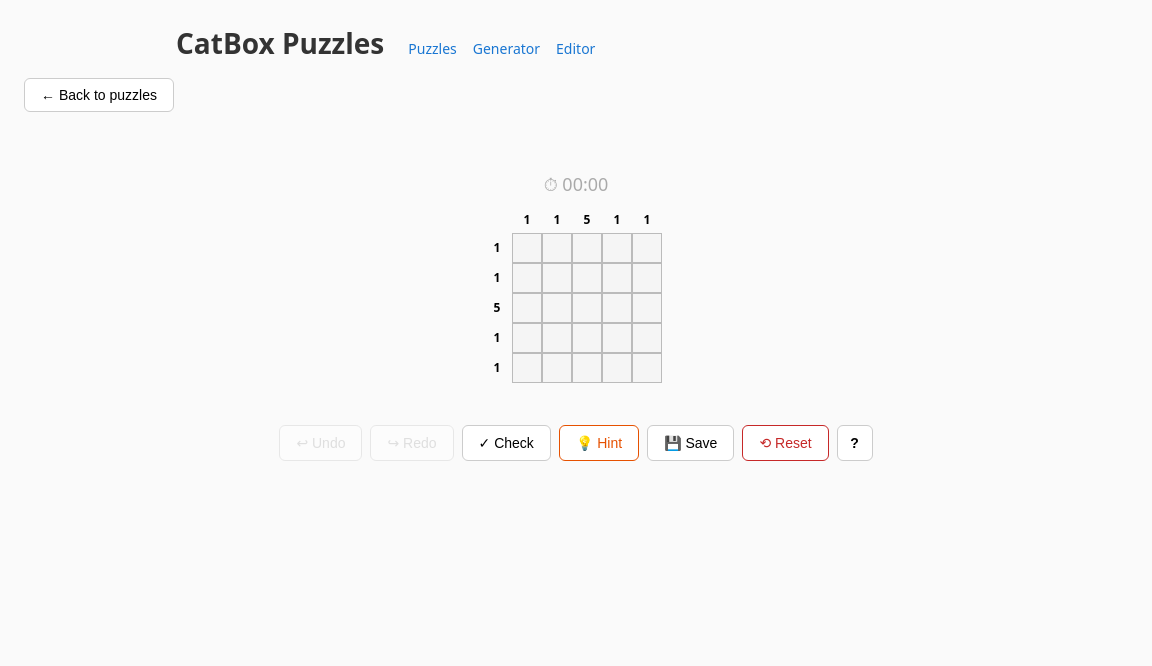
Scenario: Puzzle remount on entryId change › renders fresh state when navigating between puzzles
Expected: the table named "puzzle grid" is shown, [494, 211, 662, 383]
Click the button "← Back to puzzles".
click(99, 95)  # box [24, 78, 174, 112]
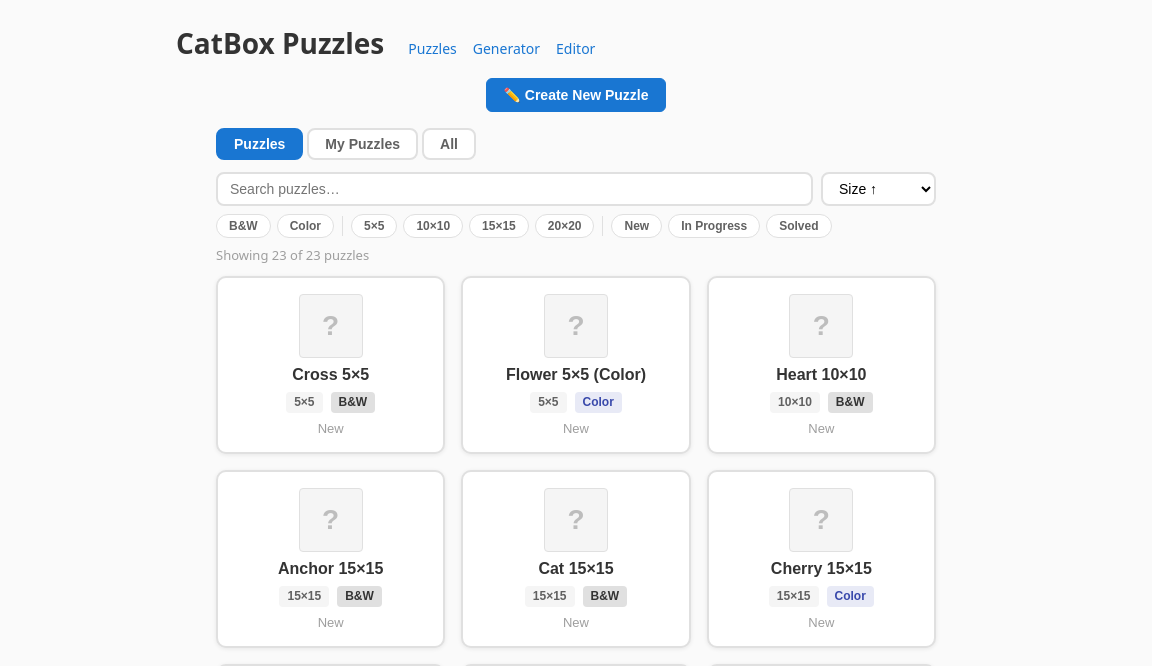
Expected: the button "? Heart 10×10 10×10 B&W New" is shown
Click the button "? Heart 10×10 10×10 B&W New".
click(821, 365)  # box [709, 278, 934, 452]
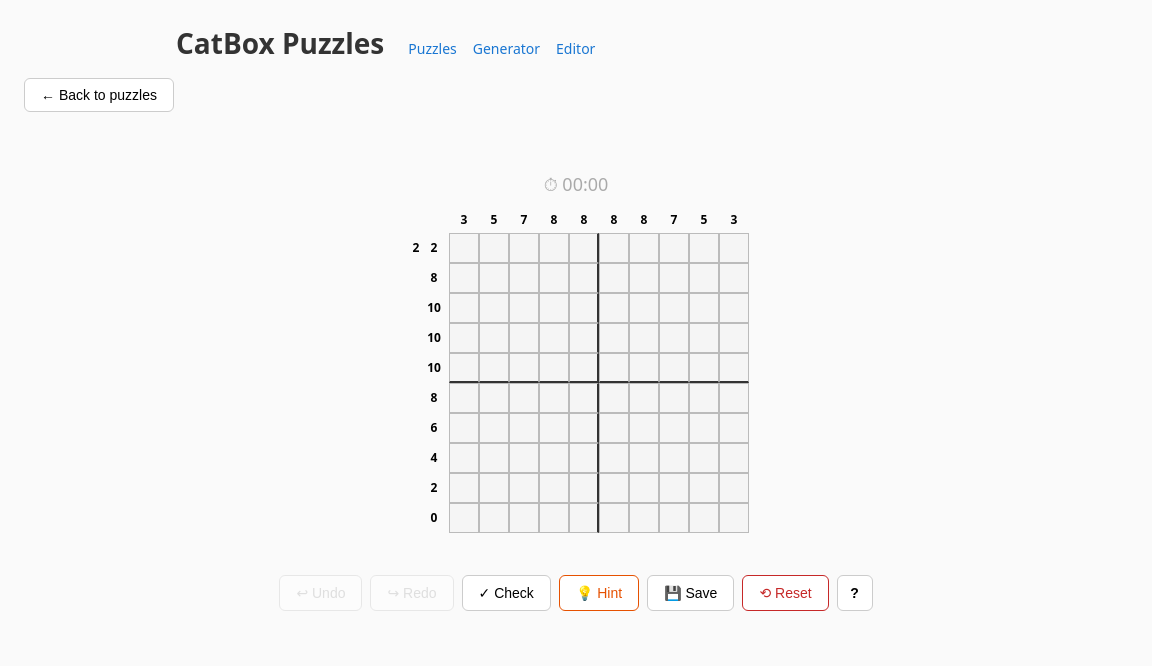
Expected: the table named "puzzle grid" is shown, [413, 211, 749, 533]
